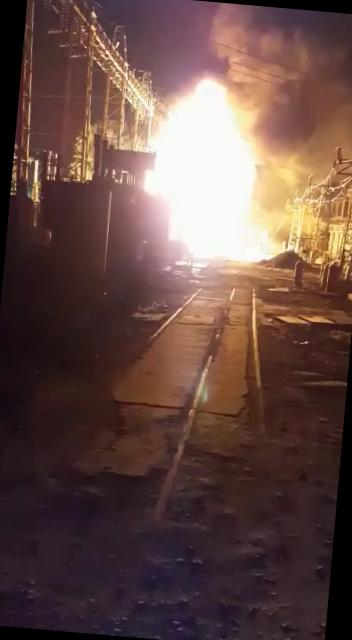Fire: (136, 73, 298, 266)
Smoke: (191, 1, 352, 204)
